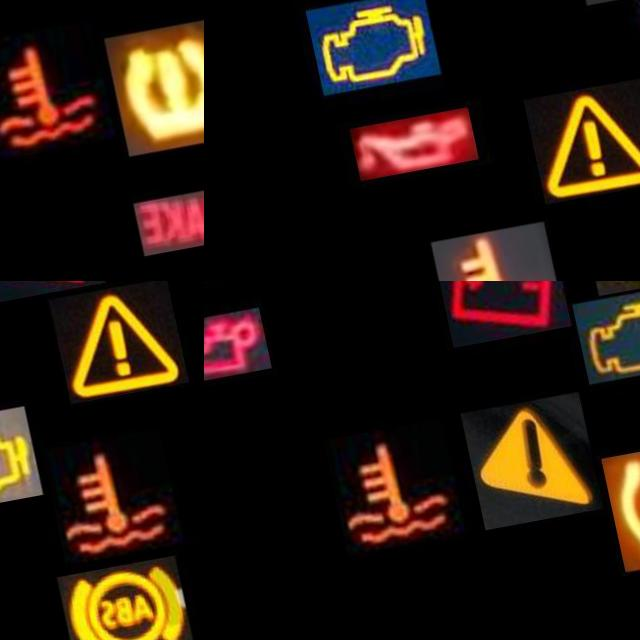Central Warning lamp: (440, 408, 578, 542), (41, 293, 177, 414), (512, 93, 640, 215)
Engine cooling system: (27, 442, 165, 574), (303, 429, 441, 561), (0, 26, 99, 161), (414, 232, 547, 281)
